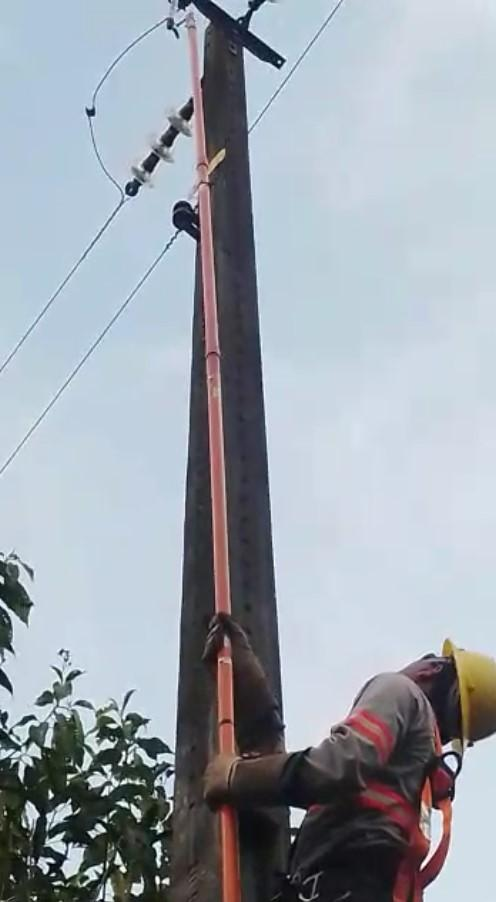Vara_Manobra: (182, 12, 243, 902)
